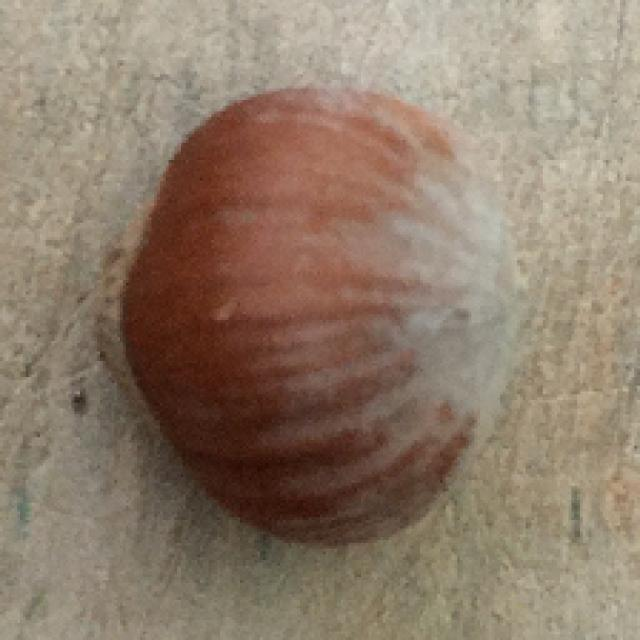qualityHazelnut: (99, 83, 529, 546)
